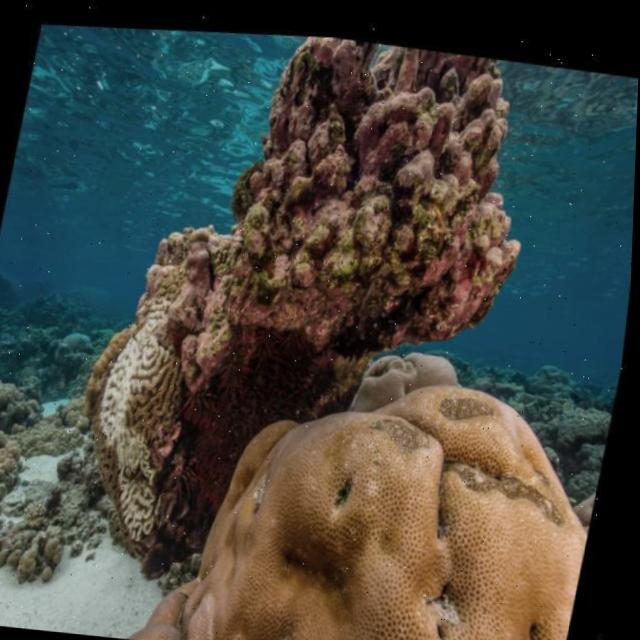Bleached Coral: (97, 288, 181, 532)
Healthy Coral: (0, 510, 73, 571), (0, 367, 54, 427), (0, 409, 26, 532)
